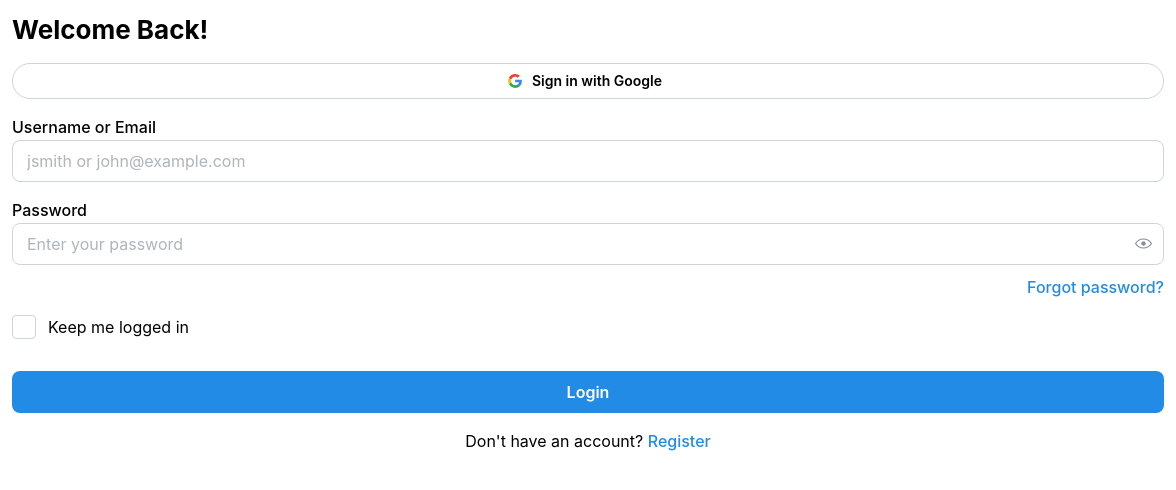
it: LoginForm › Login Form Functionality › Form Validation › Shows error for username too short
Note: Type username with only 2 characters
In the field labelled "Username or Email": x=588, y=161 [12, 140, 1164, 182], type "ab"
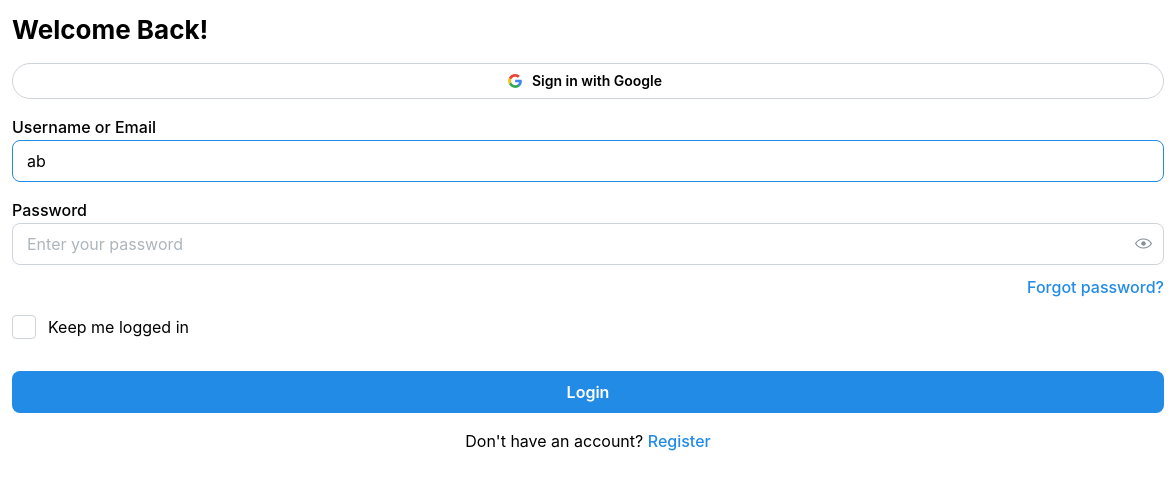
In the password field labelled "Password": x=588, y=244 [13, 224, 1163, 264], type "validPassword123"
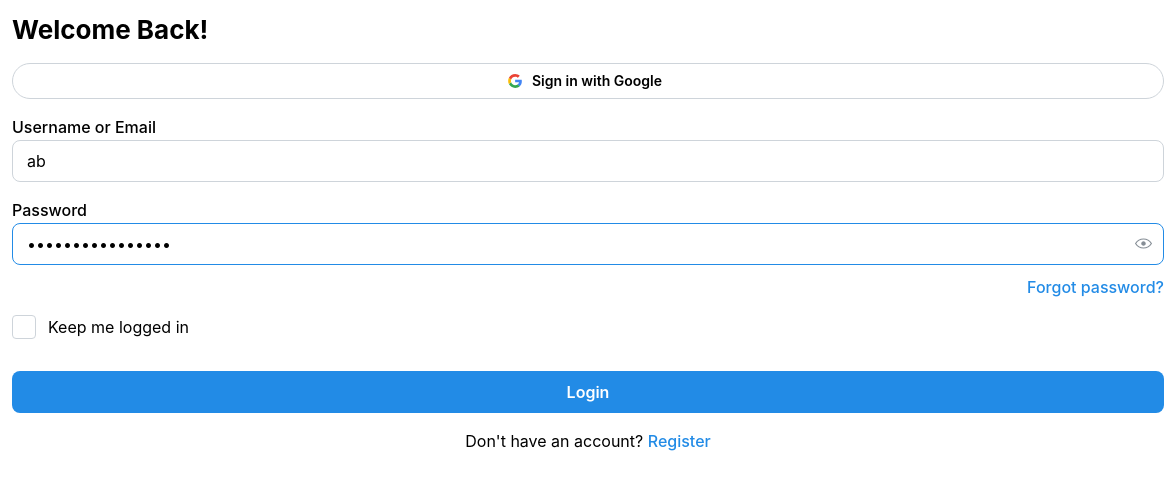
Click the button "Login": x=588, y=392 [12, 372, 1164, 414]
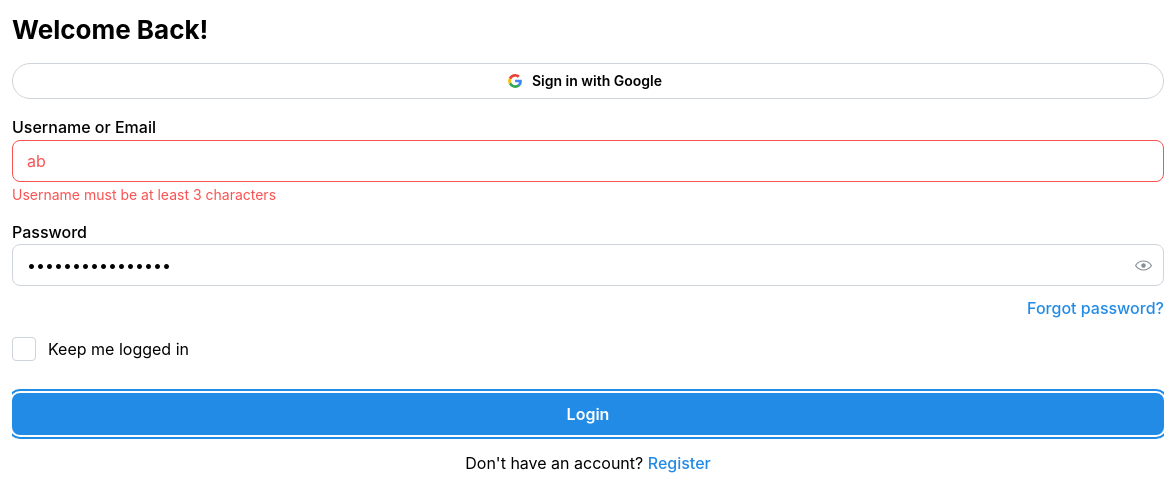
Expected: the text "Username must be at least 3 characters" is shown, [12, 186, 276, 203]
